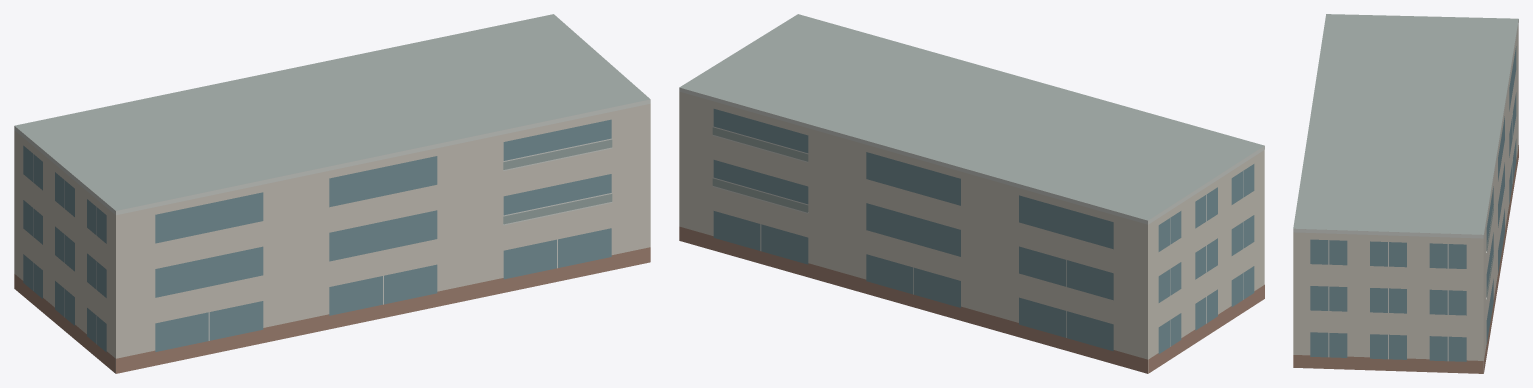
File: survey-upis-32766807.glb
The picture shows the model from 3 angles, left to right: view 1: azimuth 30°, elevation 25°; view 2: azimuth 150°, elevation 25°; view 3: azimuth 270°, elevation 25°; orthographic projection. The views are drawn at different scales.
Visible parts, largest first — view 1: survey-upis-32766807.tmp; view 2: survey-upis-32766807.tmp; view 3: survey-upis-32766807.tmp.
Boxes of the visible parts, x1,y1,x2,y2 form: survey-upis-32766807.tmp: (14,14,650,373); survey-upis-32766807.tmp: (679,14,1264,373); survey-upis-32766807.tmp: (1293,14,1518,373).
Bounding box in the file's own units: 31.17 × 9.15 × 13.46.
